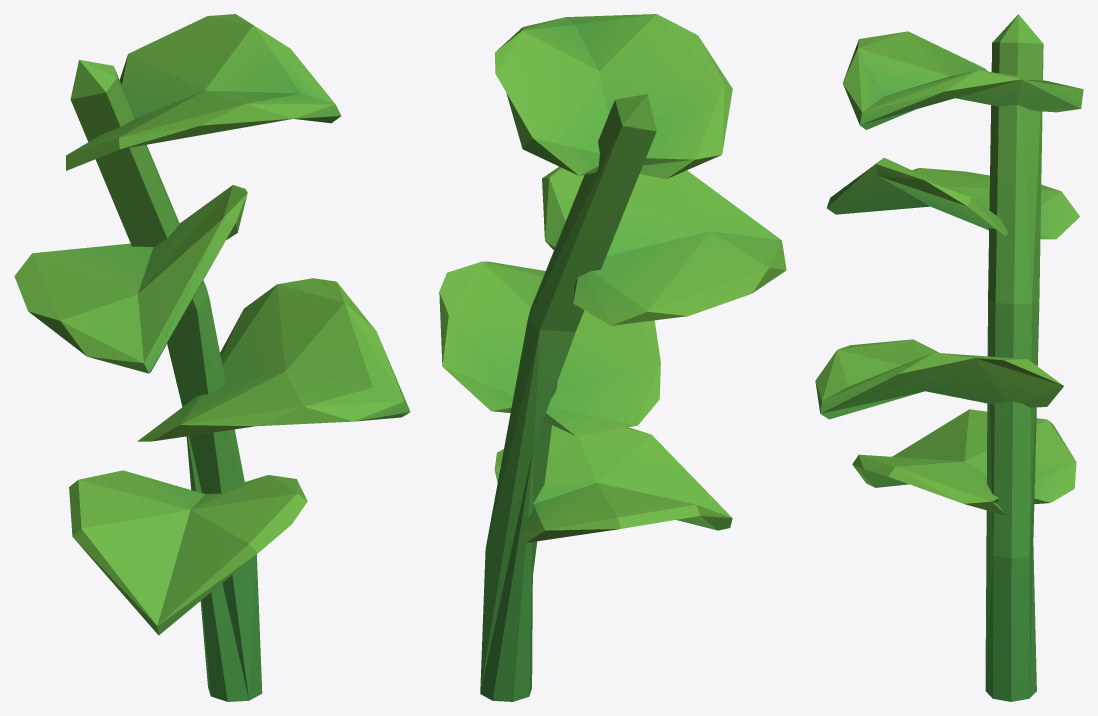
The model's file is plant_vine_1.glb.
3 views of the same model, side by side, from view 1: azimuth 30°, elevation 25°; view 2: azimuth 150°, elevation 25°; view 3: azimuth 270°, elevation 25° (orthographic). The views are drawn at different scales.
Visible parts, largest first — view 1: plant_vine_1; view 2: plant_vine_1; view 3: plant_vine_1.
Boxes of the visible parts, x1,y1,x2,y2 form: plant_vine_1: (14,14,410,701); plant_vine_1: (439,14,786,701); plant_vine_1: (815,14,1083,701).
Size of the model in its own units: 0.6779 by 1.4 by 0.548.
Materials: 1 (1 with a texture image).
